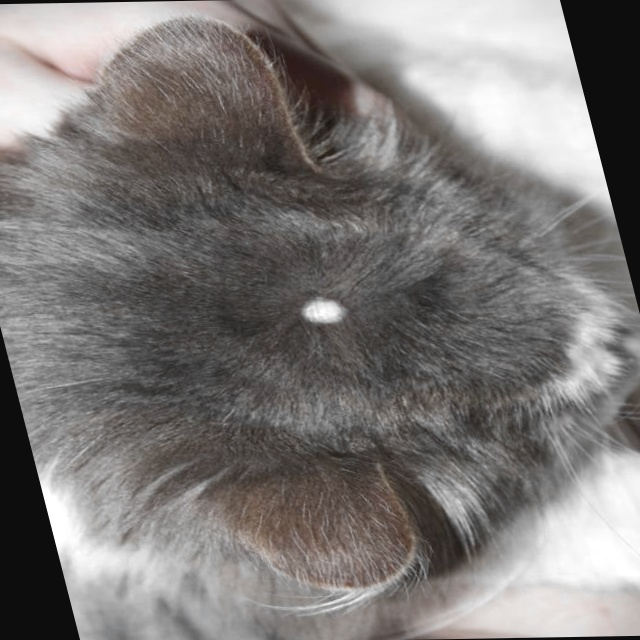lump_and_bump: (292, 297, 350, 322)
